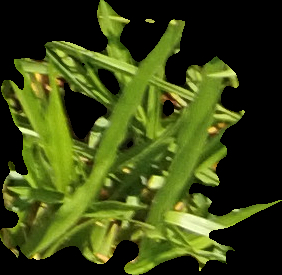grass: (1, 1, 280, 273)
